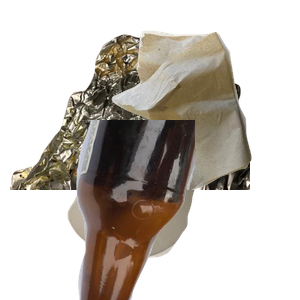glass: (60, 120, 300, 300)
metal: (10, 32, 250, 212)
plastic: (65, 123, 257, 300)
trash: (109, 28, 300, 208)
